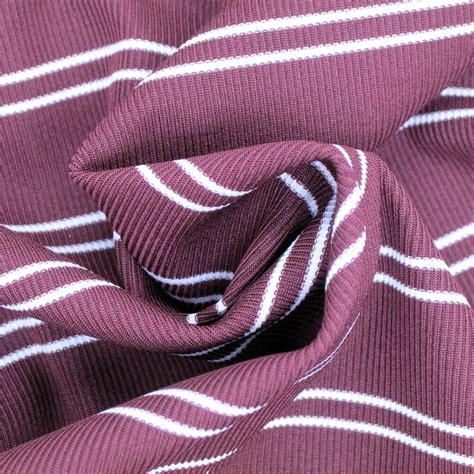nylon: (1, 2, 474, 473)
